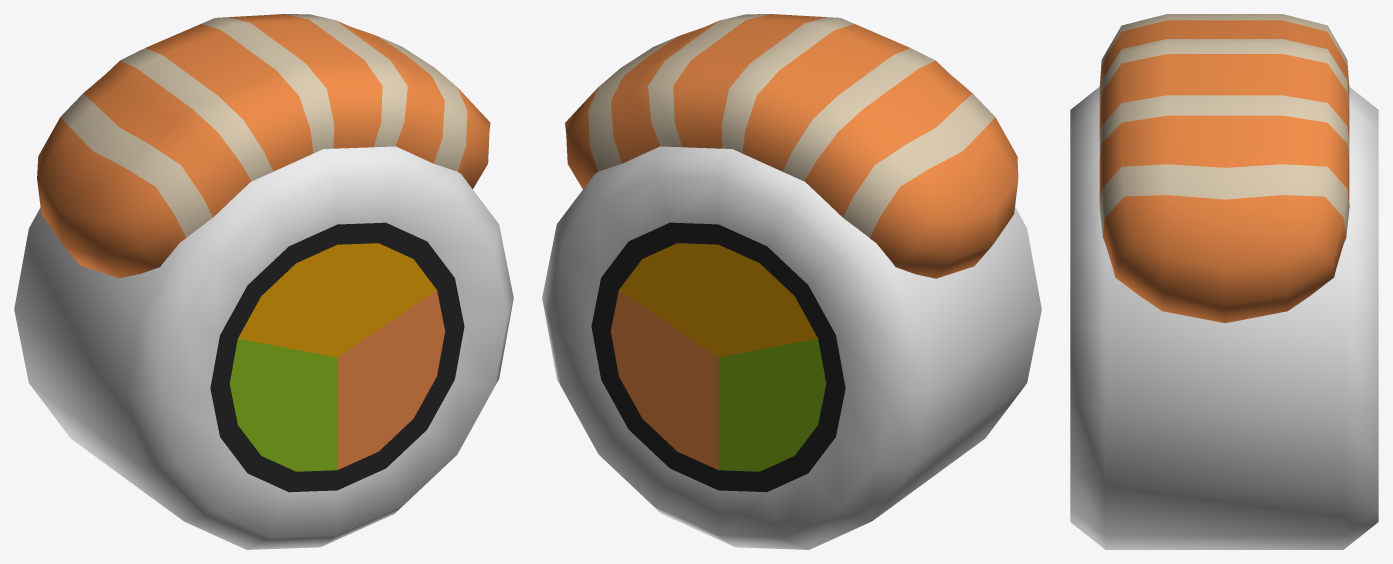
File: Food_SalmonRoll.fbx
The picture shows the model from 3 angles, left to right: view 1: azimuth 30°, elevation 25°; view 2: azimuth 150°, elevation 25°; view 3: azimuth 270°, elevation 25°; orthographic projection. The views are drawn at different scales.
Parts seen in each view (by area): view 1: Food_SalmonRoll; view 2: Food_SalmonRoll; view 3: Food_SalmonRoll.
Boxes of the visible parts, x1=… form: Food_SalmonRoll: x1=14, y1=14, x2=513, y2=549; Food_SalmonRoll: x1=542, y1=14, x2=1041, y2=549; Food_SalmonRoll: x1=1070, y1=14, x2=1378, y2=549.
Bounding box in the file's own units: 46.56 × 49.94 × 28.81.
